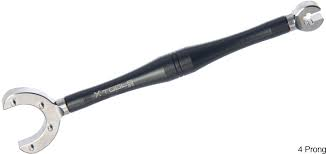wrench: (3, 3, 326, 144)
